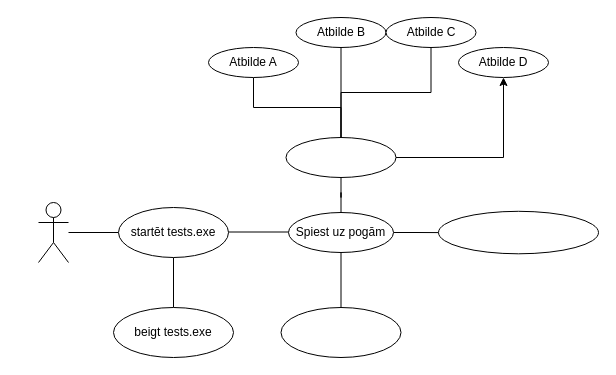
The diagram is 616 pixels wide and 375 high, and some of its shapes have lost their labels. The shapes that lost their labels are listed below. From the top down, each one's box as (x1, y1, x2, y2) in pixels, then its label:
(285, 136, 396, 178): Atbildēt uz jautājumiem
(38, 202, 68, 262): Testa pildītājs
(438, 210, 598, 254): Apskatīties noteikumus sākuma ainā
(280, 306, 401, 358): Atsākt no jauna testu
